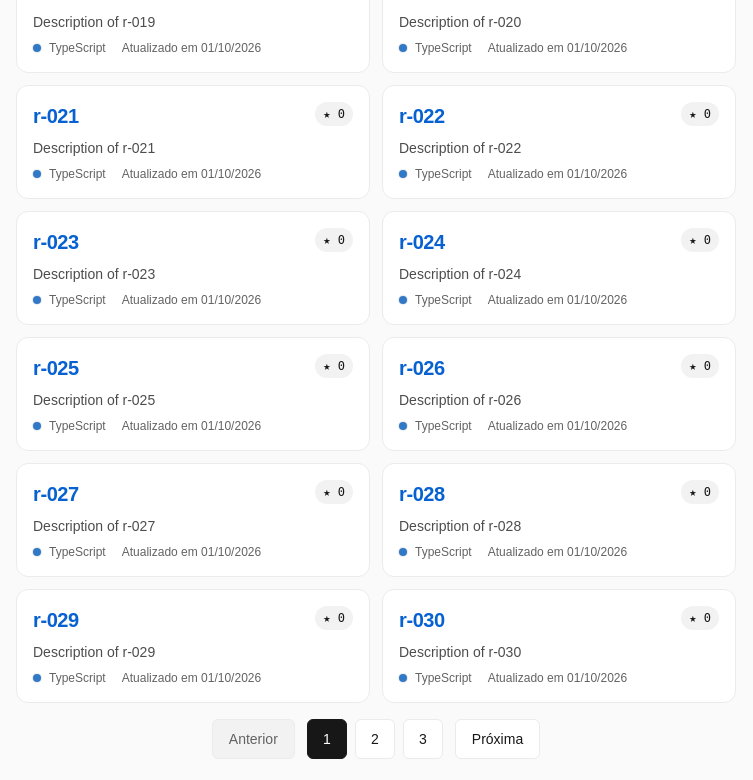
Test: repository list route › page number keeps the sort, pushes the page and keeps the focus on it
(page scrolled)
Click the button named "Página 3" at {"x": 423, "y": 739}, box [403,719,443,759]
(page scrolled)
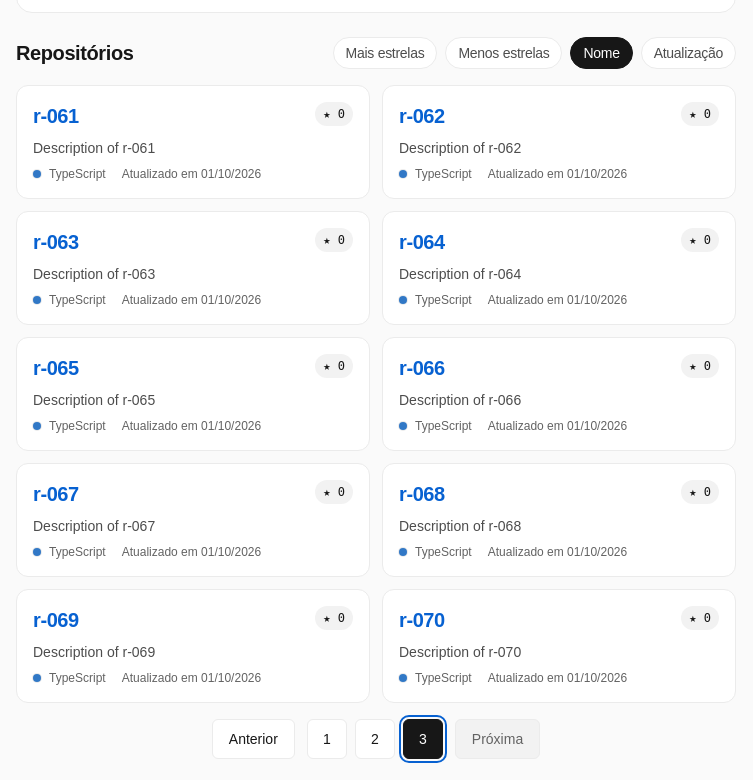
Expected: the link "r-061" is shown, [33,105,79,127]
